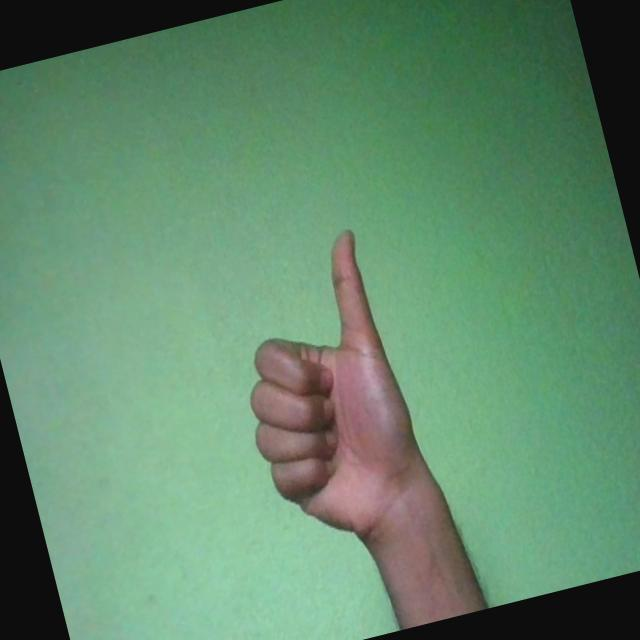Good Job: (209, 226, 436, 562)
